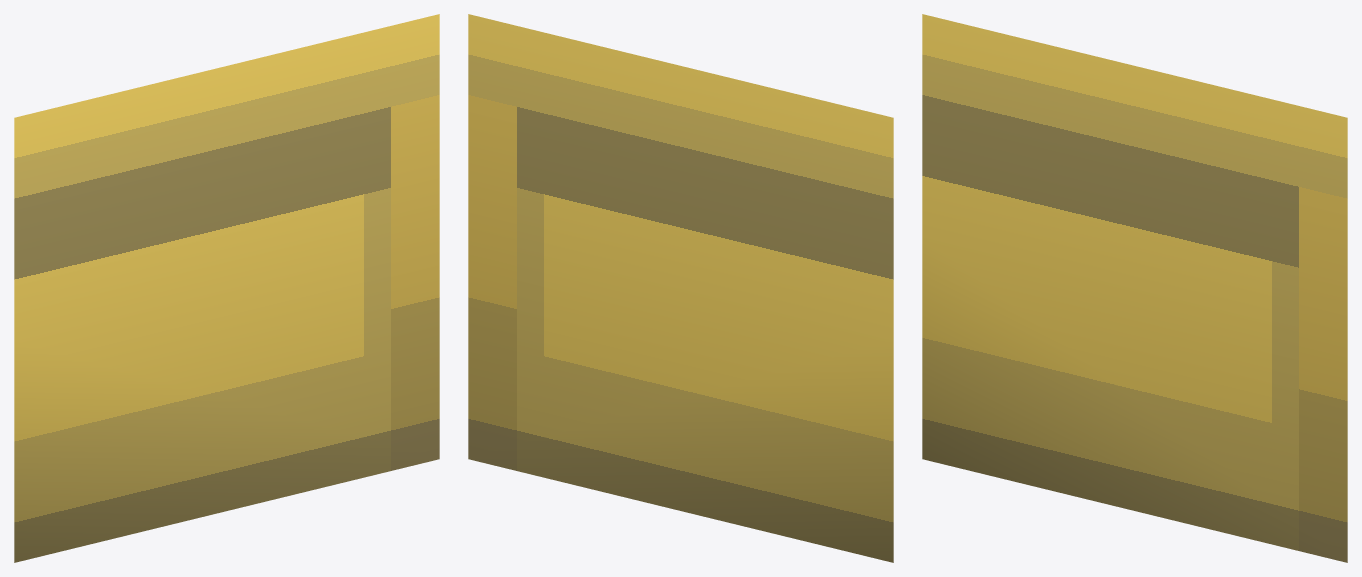
3 renders of one model, left to right at view 1: azimuth 30°, elevation 25°; view 2: azimuth 150°, elevation 25°; view 3: azimuth 330°, elevation 25°, orthographic.
Bounding box in the file's own units: 1 × 1 × 0.
Materials: 1 (1 with a texture image).
